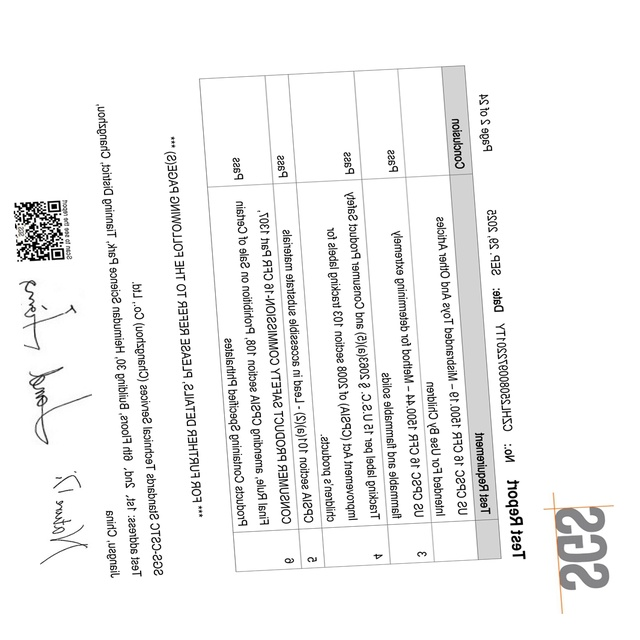sgs: (553, 507, 610, 591)
